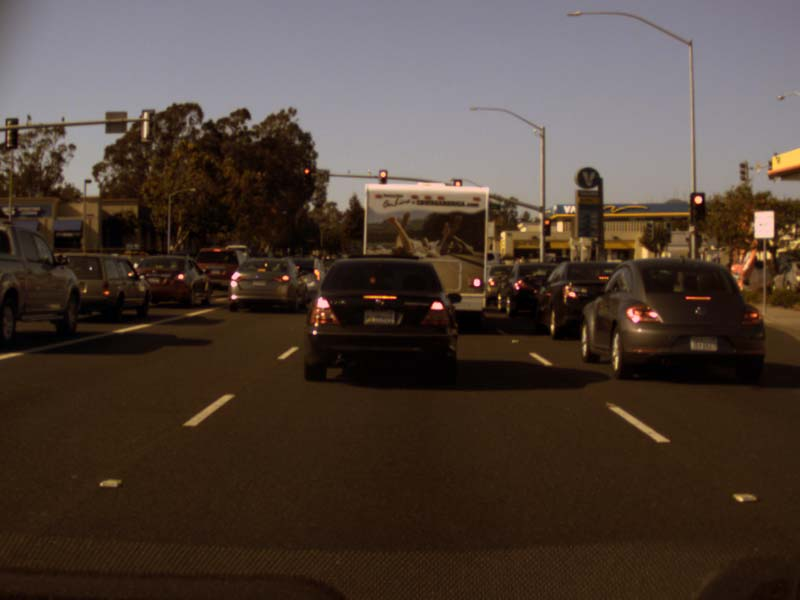Red: (689, 193, 705, 222), (453, 179, 462, 197), (542, 217, 550, 236), (378, 169, 386, 187), (303, 167, 310, 182)
